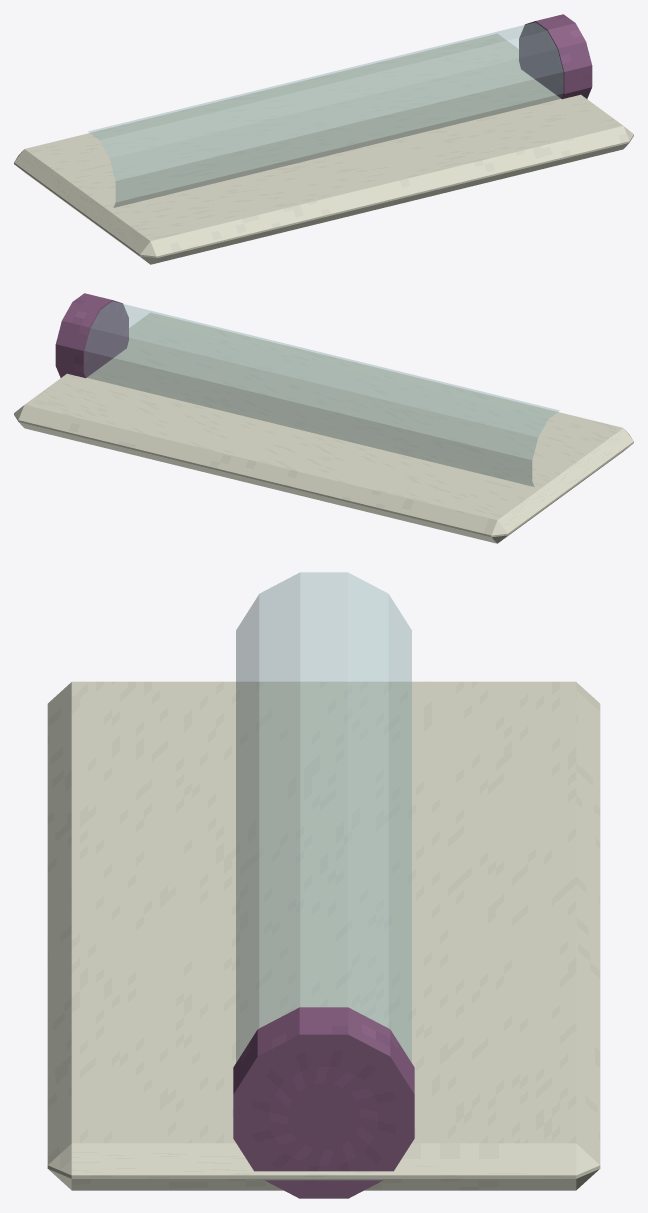
The model's file is vacutainer.glb.
3 renders of one model, top to bottom at view 1: azimuth 30°, elevation 25°; view 2: azimuth 150°, elevation 25°; view 3: azimuth 270°, elevation 25°, orthographic. The views are drawn at different scales.
Visible parts, largest first — view 1: block_sealed kit tray, block_clear glass tube, block_rubber seal; view 2: block_sealed kit tray, block_clear glass tube, block_rubber seal; view 3: block_sealed kit tray, block_clear glass tube, block_rubber seal.
Part boxes in pixels (<box>): block_sealed kit tray: <box>14,33,633,264</box>; block_clear glass tube: <box>88,22,563,207</box>; block_rubber seal: <box>519,14,592,99</box>; block_sealed kit tray: <box>14,312,633,543</box>; block_clear glass tube: <box>84,301,559,486</box>; block_rubber seal: <box>55,293,128,378</box>; block_sealed kit tray: <box>47,681,600,1190</box>; block_clear glass tube: <box>236,572,411,1062</box>; block_rubber seal: <box>233,1007,414,1198</box>.
Size of the model in its own units: 0.1203 by 0.0192 by 0.0583.
Materials: 2 (2 with a texture image).
